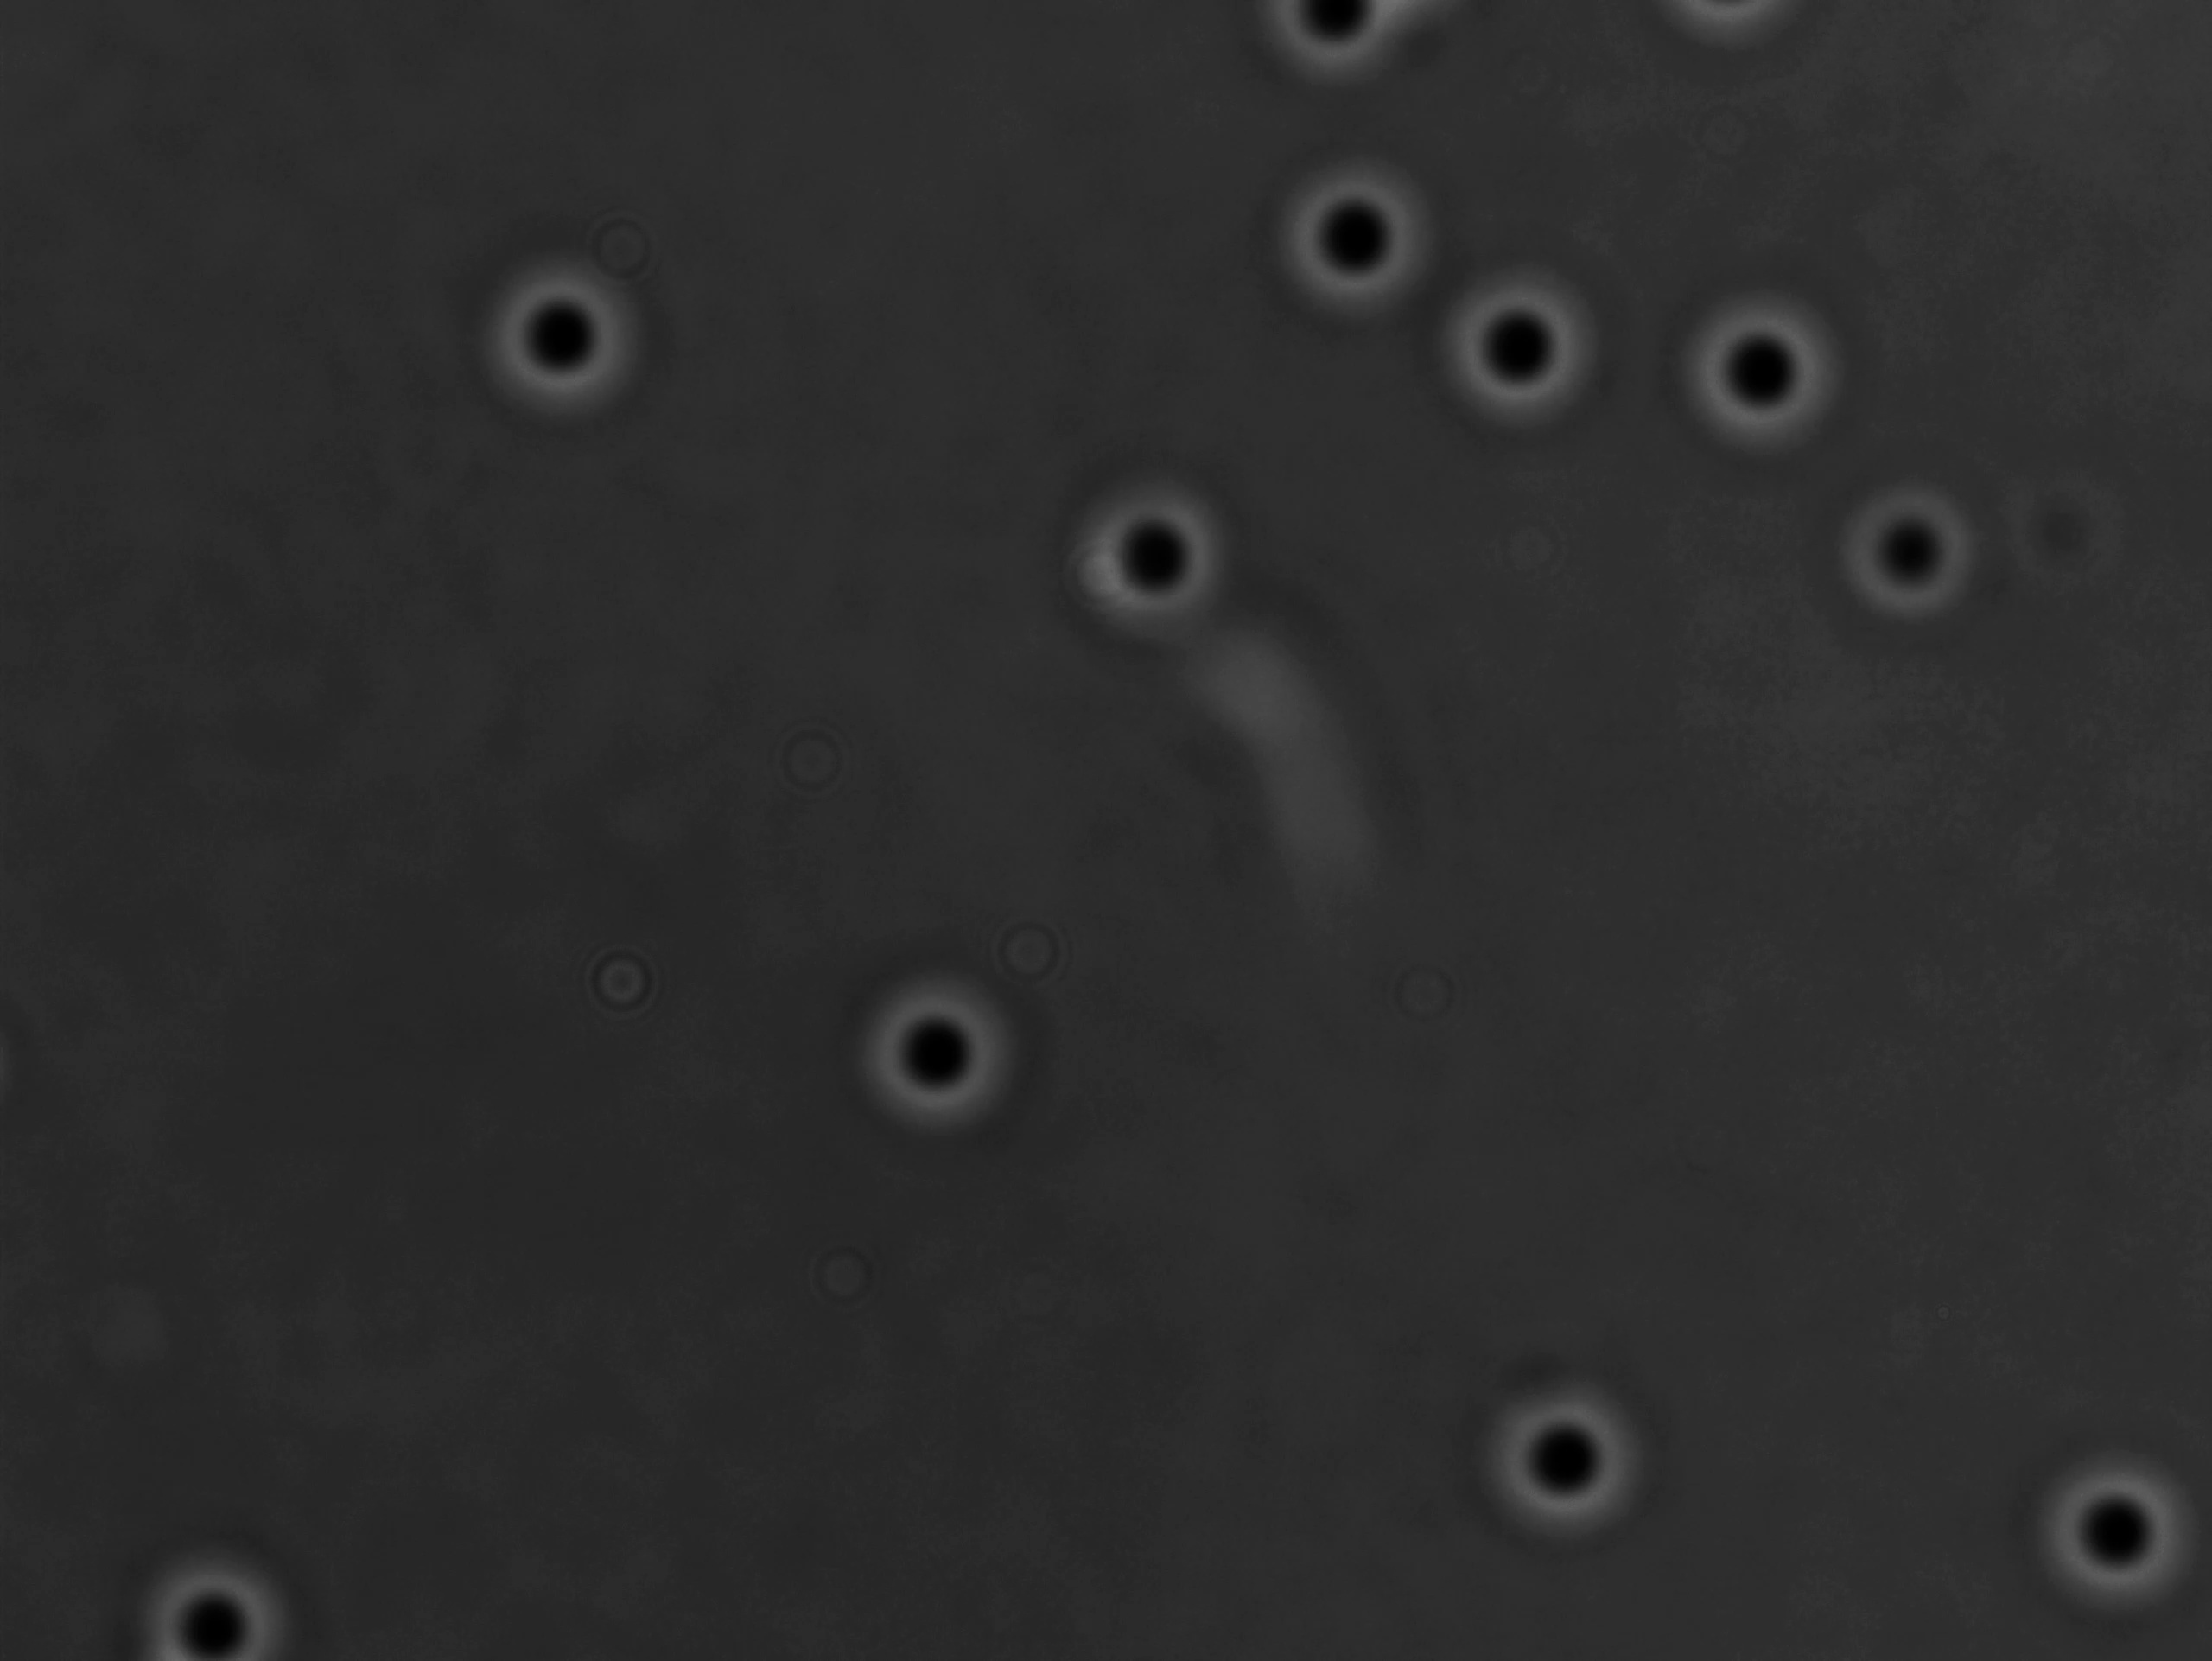depth:-80: (1434, 239, 1633, 434), (1260, 152, 1462, 335), (850, 953, 1033, 1148), (1472, 1370, 1659, 1558), (1671, 281, 1856, 471), (1818, 466, 2015, 642), (481, 248, 670, 429), (1054, 475, 1246, 651), (2029, 1450, 2212, 1612)
